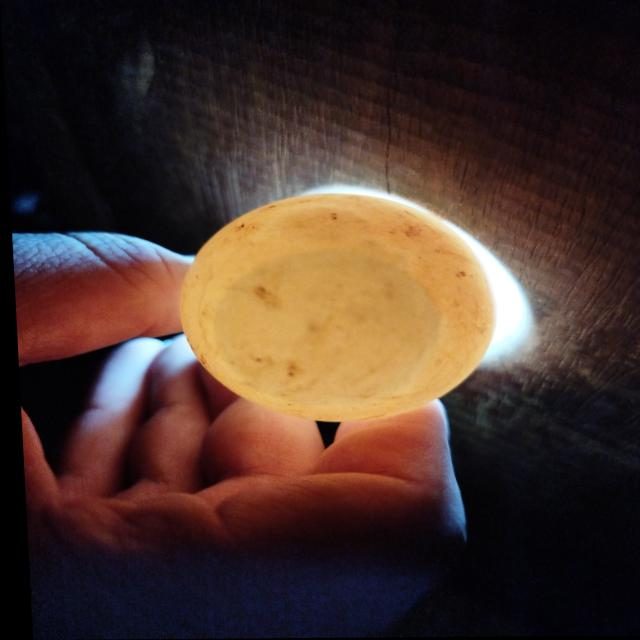Camara de Ar: (210, 251, 440, 403)
